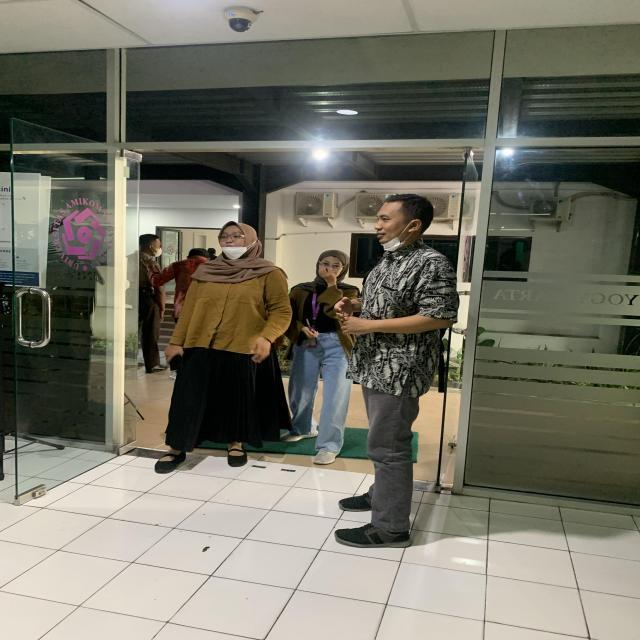hairnet: (374, 194, 436, 254), (213, 218, 263, 263), (313, 250, 349, 285)
